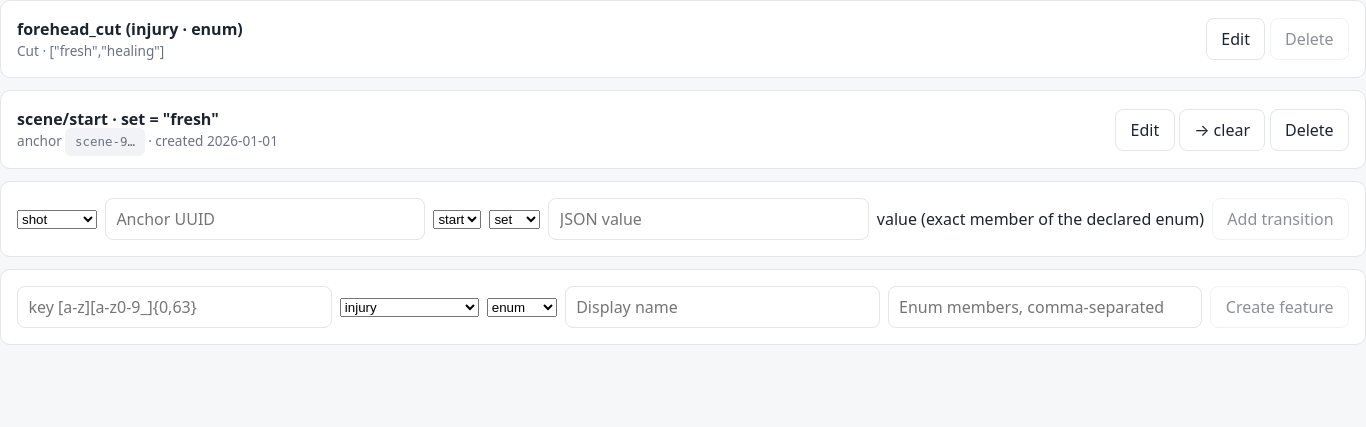
Scenario: ContinuityFeaturesPanel authoring (M7D §18.2.1–18.2.2) › renders a 422 envelope verbatim (server is the authority)
Type "scene-9" into the field with placeholder "Anchor UUID" at (265, 219), box [105, 198, 425, 240]
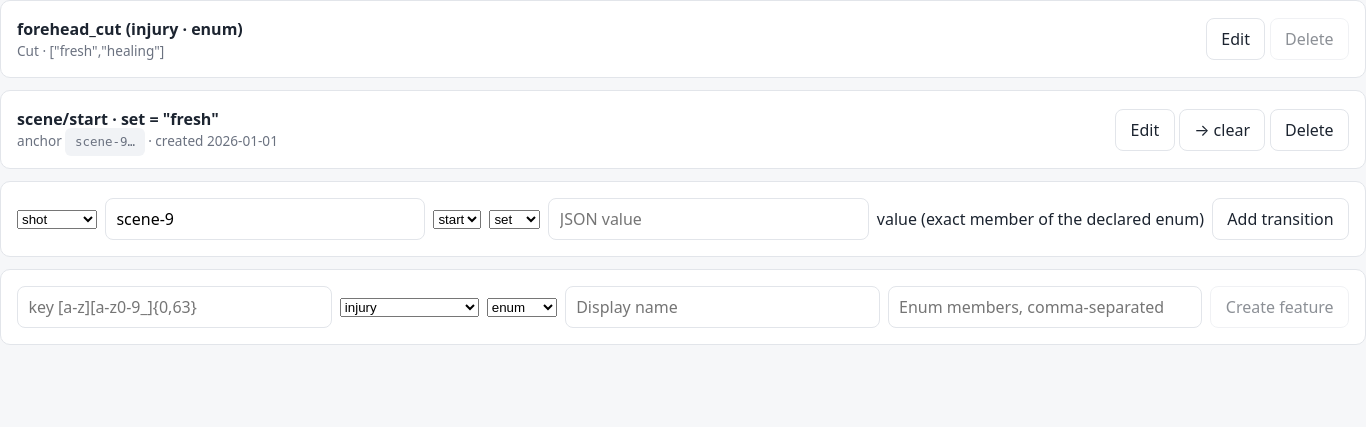
Type "\"nope\"" into the field with placeholder "JSON value" at (709, 219), box [548, 198, 869, 240]
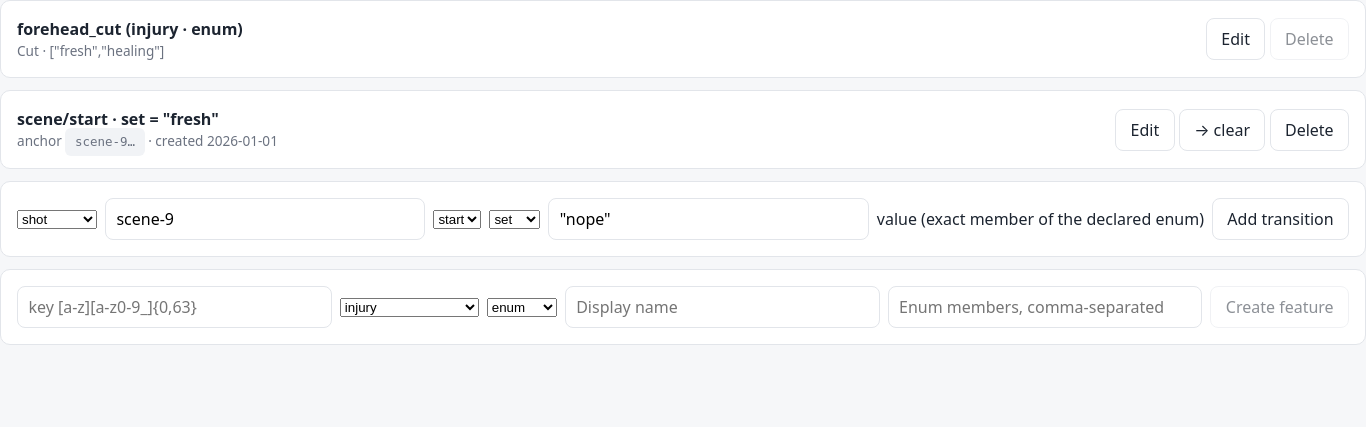
Submit the form with placeholder "Anchor UUID", box [0, 181, 1365, 257]
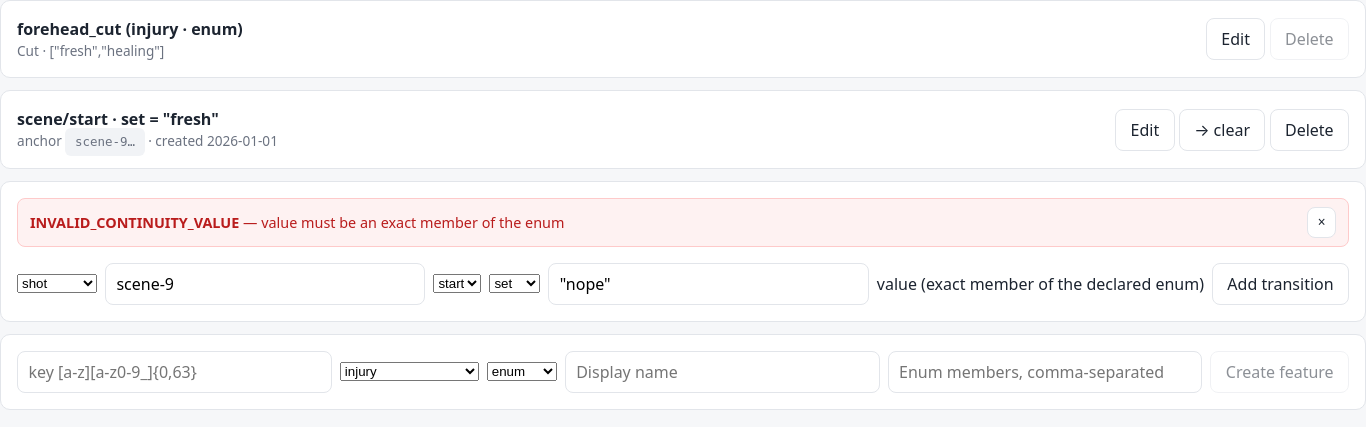
Expected: the text "INVALID_CONTINUITY_VALUE" is shown, [30, 212, 239, 232]
Expected: the text "value must be an exact member of the enum" is shown, [261, 212, 564, 232]
